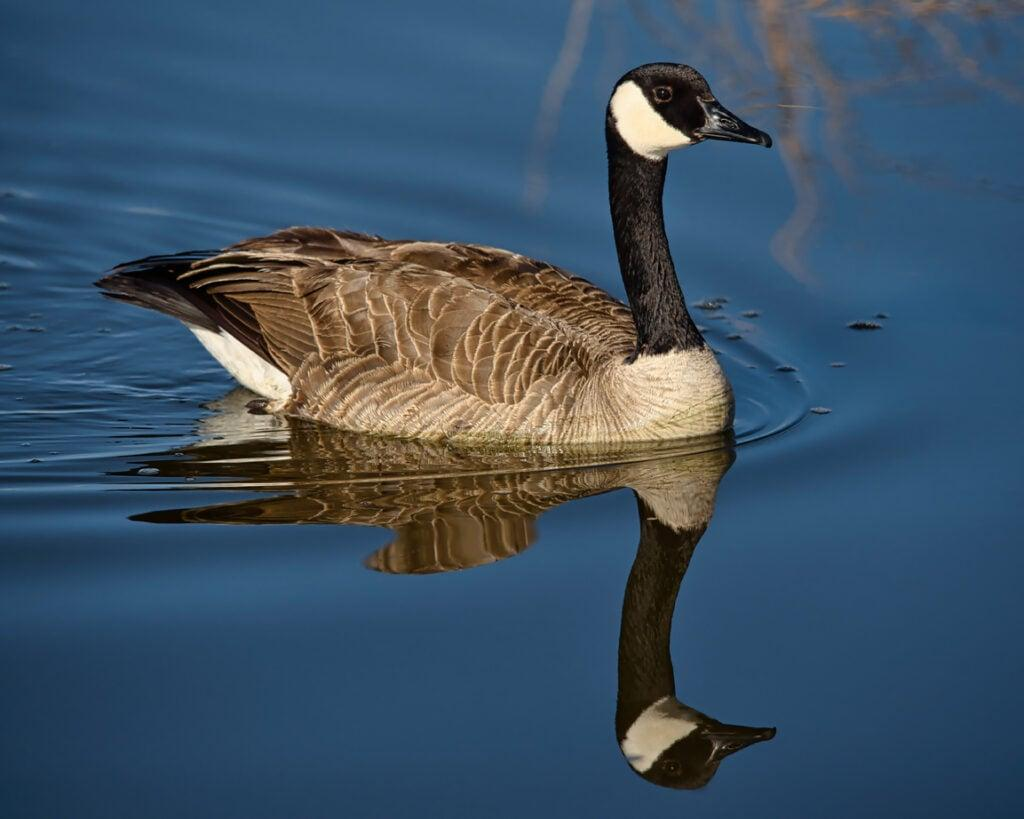Canadian-Goose: (93, 53, 782, 445)
